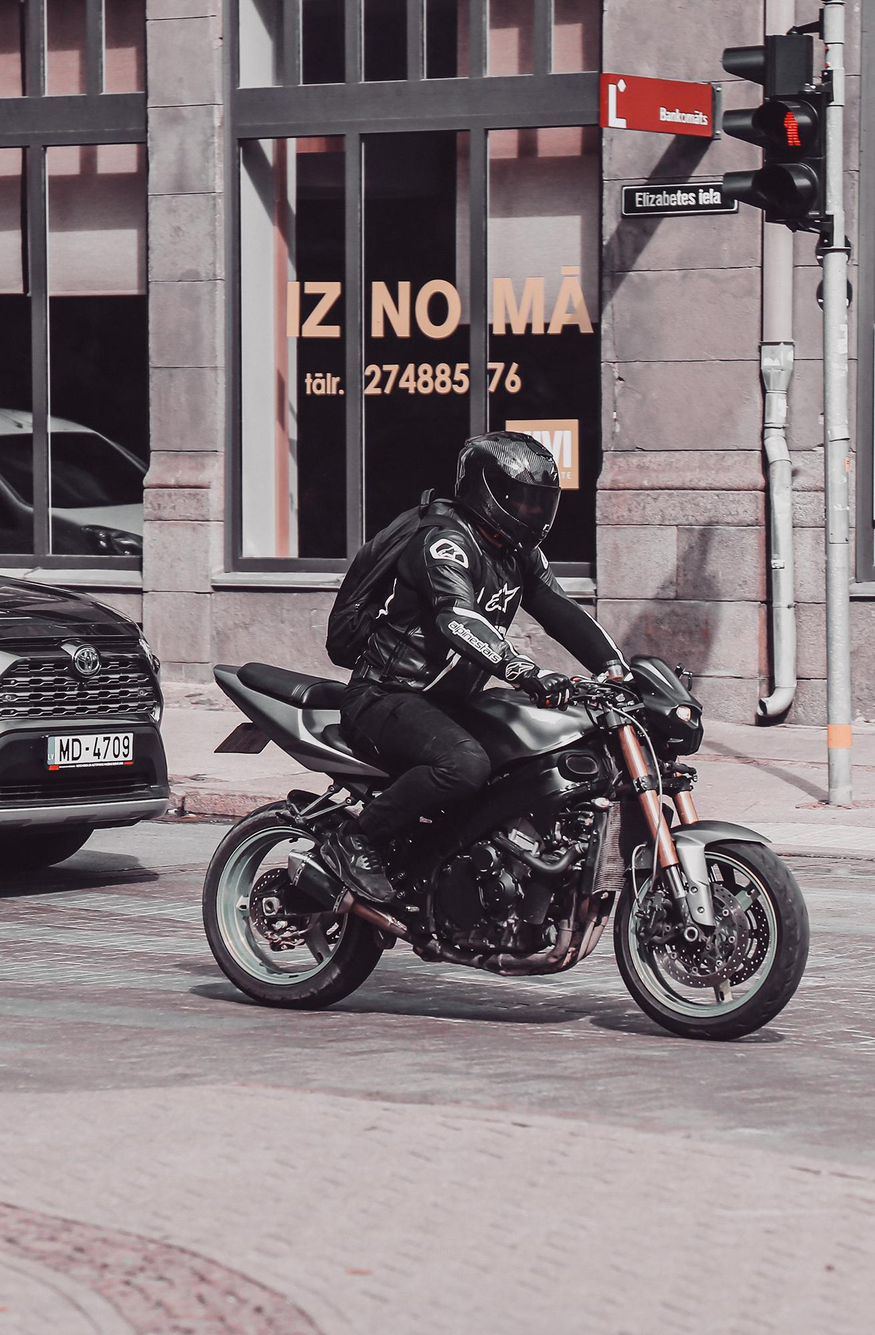helmet: (454, 430, 563, 558)
